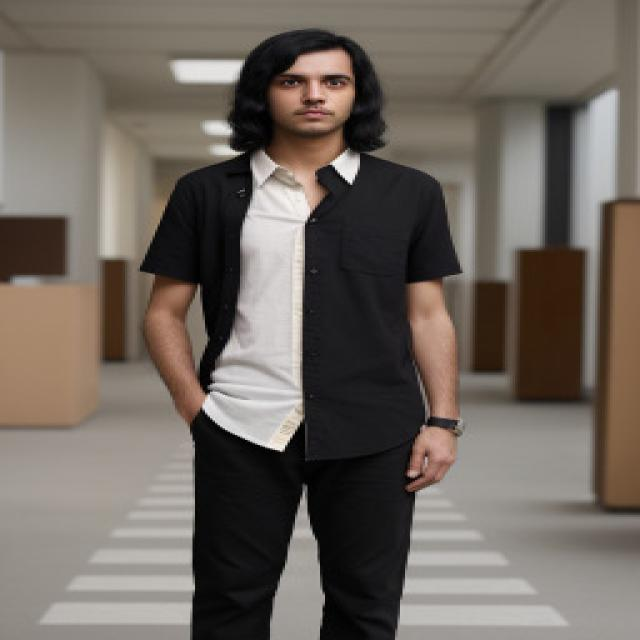Ai human 2: (123, 20, 493, 640)
